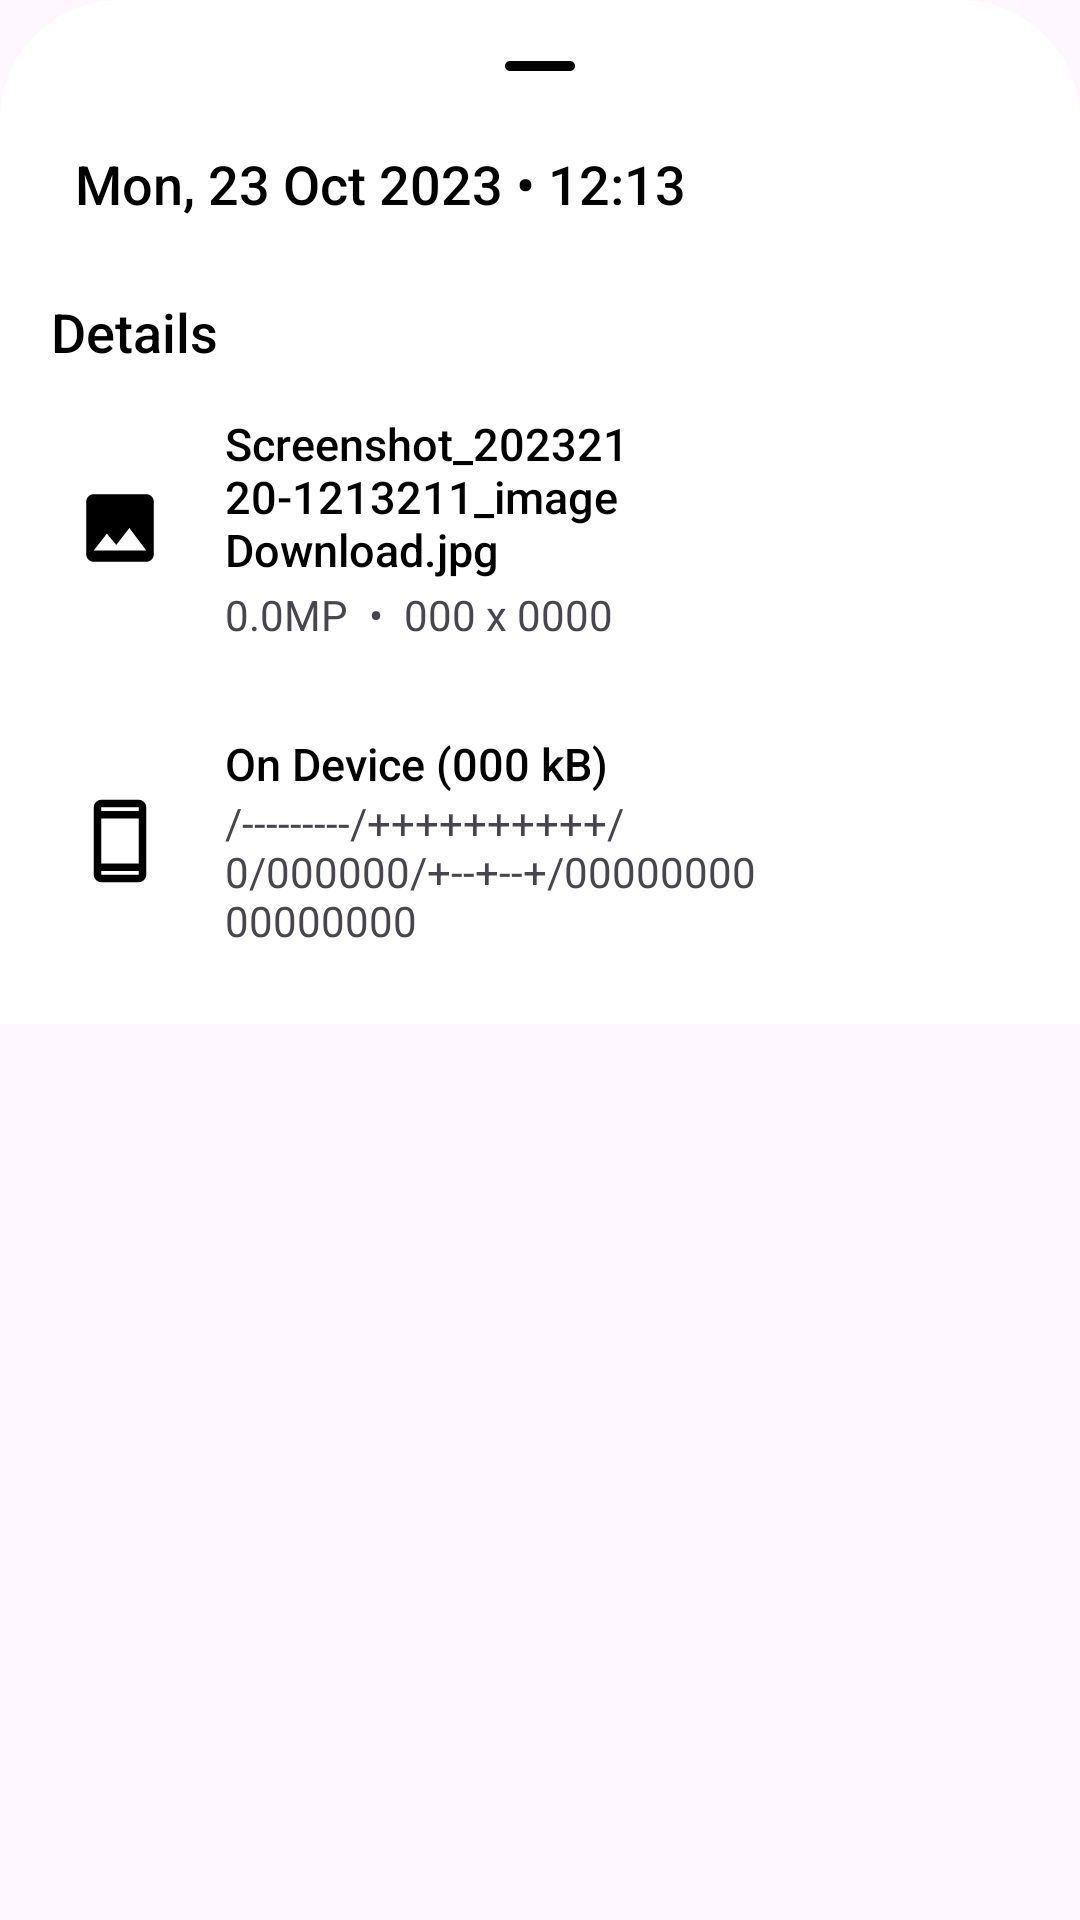

Where to tap for icons on this 1080x1920 app screen, as [x,y]:
smartphone: [120,841]
